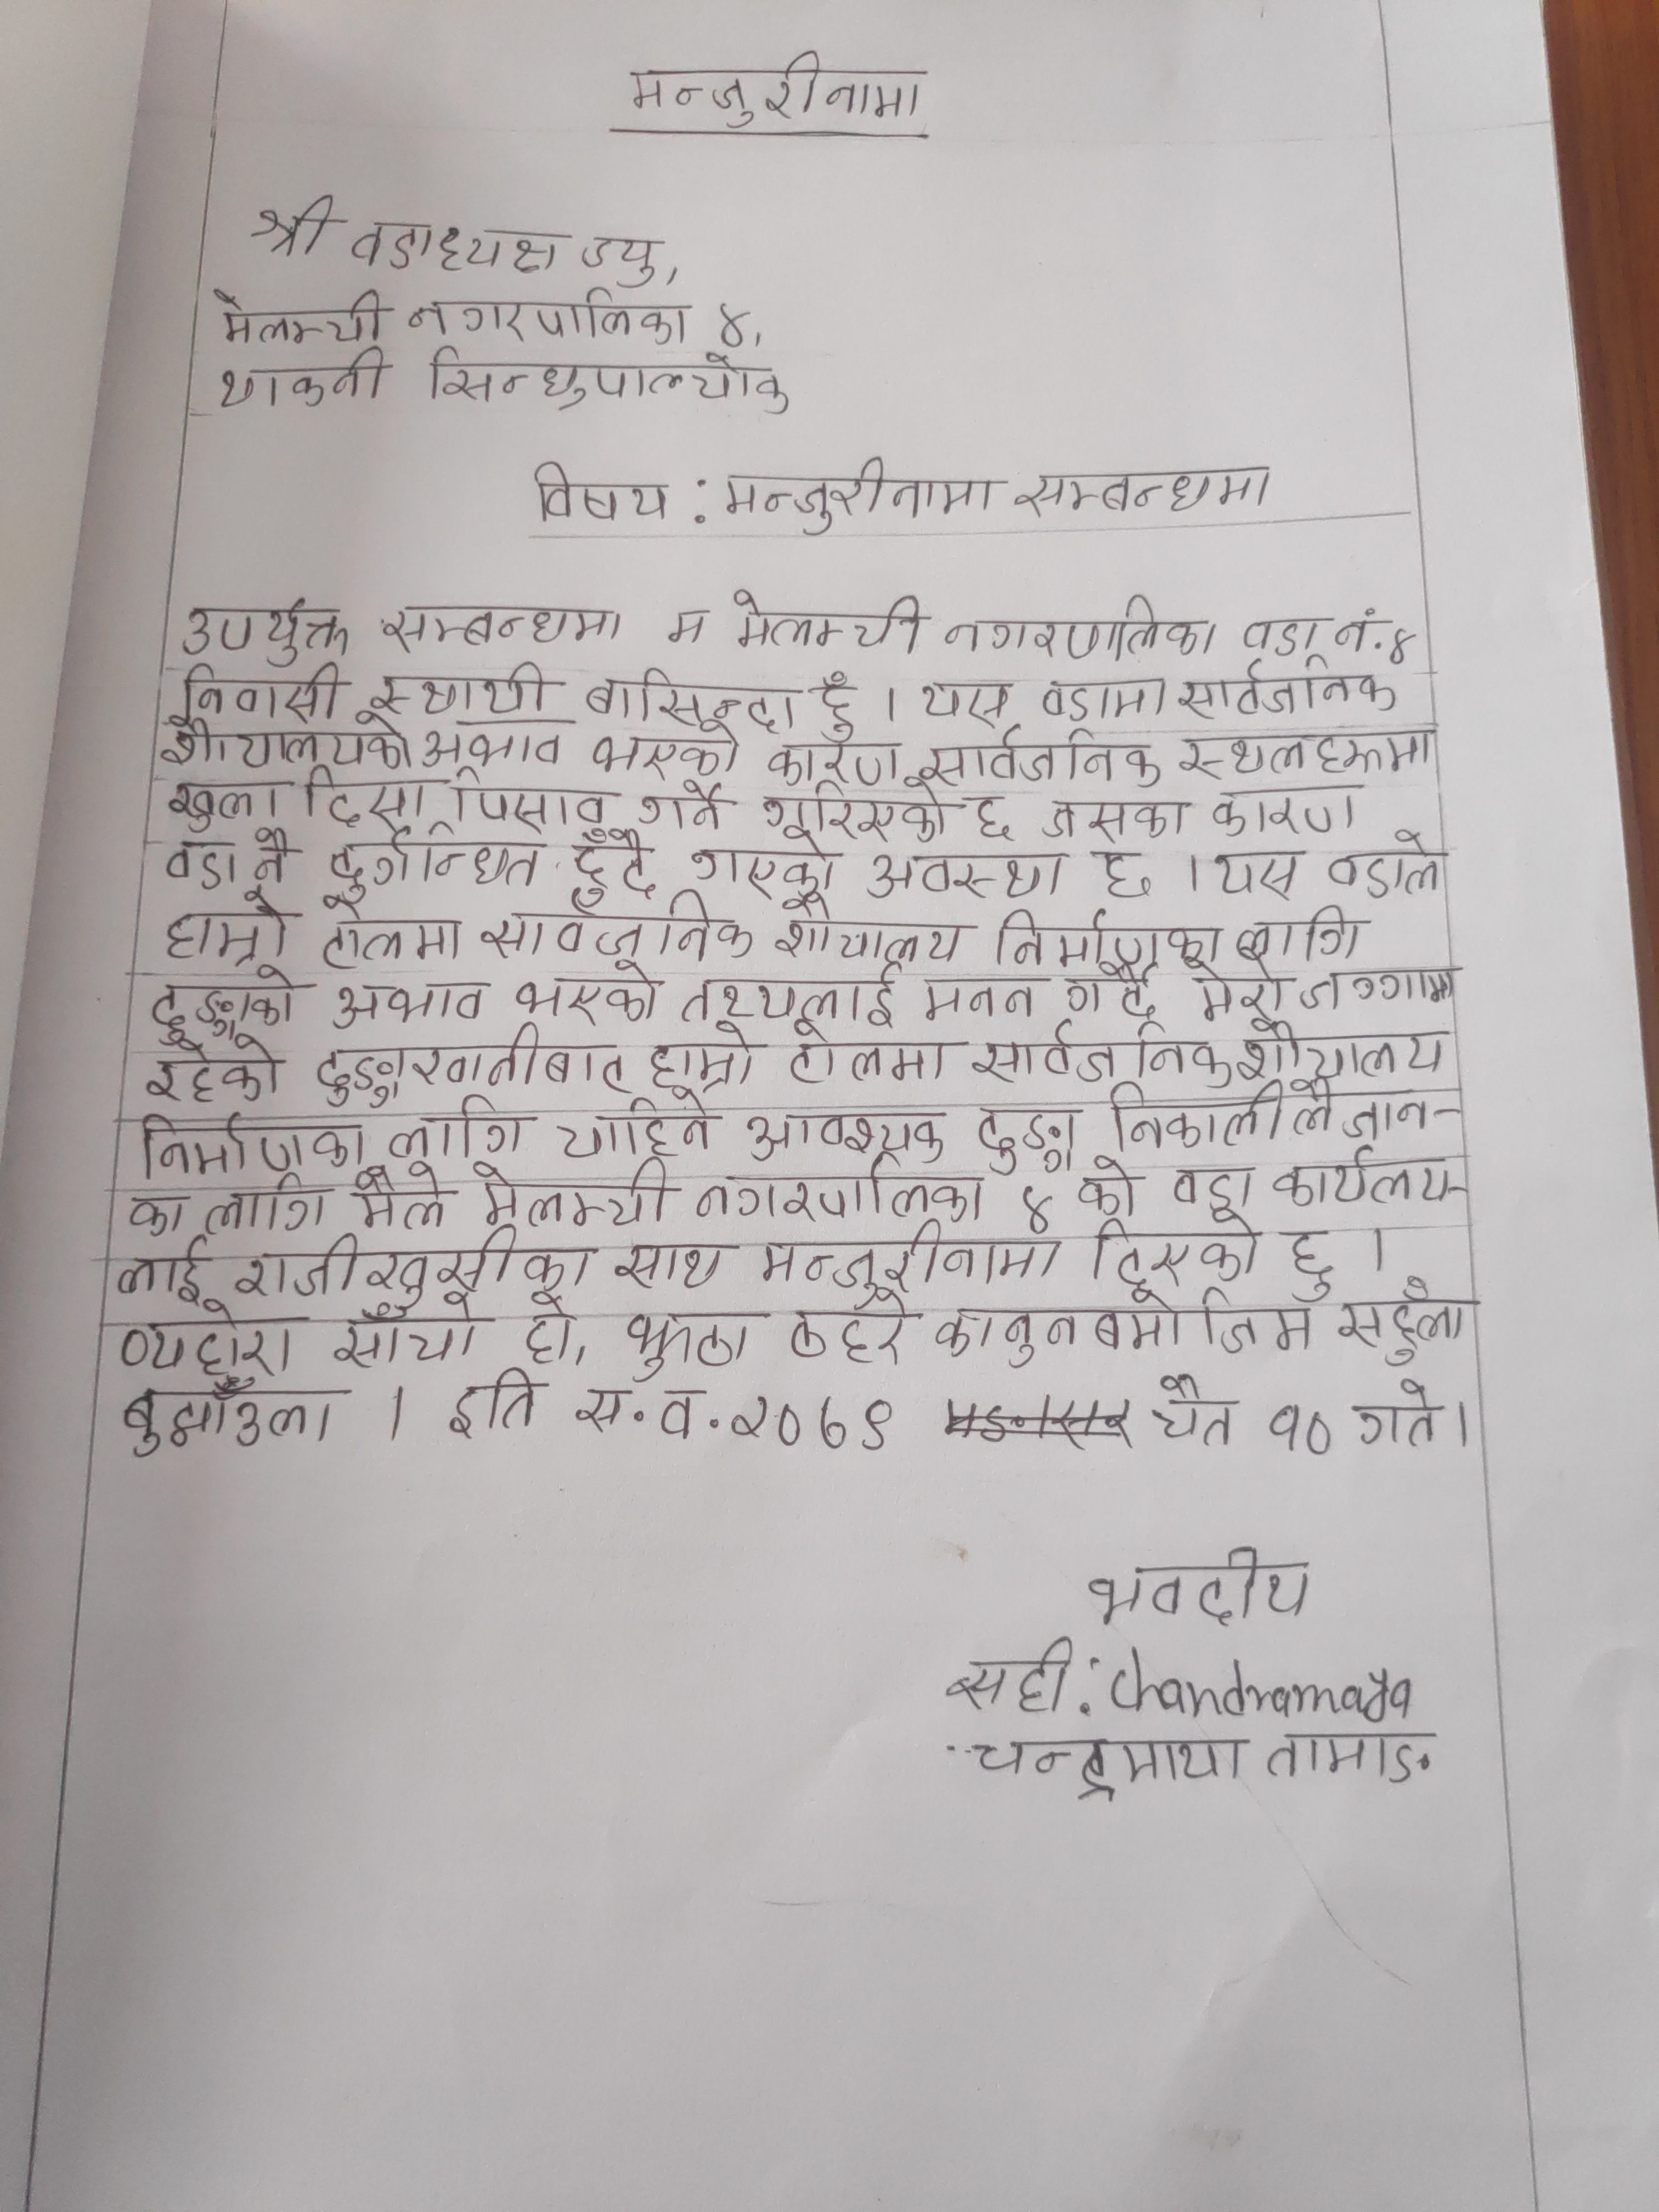text: (932, 1285, 1312, 1367), (425, 343, 798, 421), (758, 1214, 1068, 1305), (232, 1230, 599, 1299), (301, 1036, 634, 1108), (624, 52, 931, 129), (716, 458, 1004, 536), (403, 282, 699, 355), (1082, 1543, 1324, 1627), (950, 1730, 1249, 1796), (941, 599, 1220, 669), (115, 1379, 342, 1460), (328, 824, 558, 900), (479, 902, 762, 963), (132, 1108, 373, 1177), (857, 833, 1080, 906), (976, 1026, 1234, 1089), (1178, 719, 1432, 782), (720, 587, 922, 662), (380, 601, 626, 660), (772, 894, 972, 965), (352, 214, 568, 280), (579, 672, 800, 737), (157, 721, 420, 775), (666, 968, 908, 1024), (1171, 658, 1405, 716), (1230, 1015, 1448, 1076), (924, 732, 1169, 786), (1018, 469, 1279, 519), (110, 1306, 308, 1372), (992, 906, 1225, 961), (549, 1085, 727, 1158), (1086, 1214, 1262, 1287), (1328, 1275, 1469, 1366), (721, 1390, 903, 1460), (782, 1017, 962, 1087), (143, 970, 298, 1049), (179, 594, 354, 664), (1112, 1080, 1290, 1148), (1260, 1721, 1446, 1785), (206, 284, 390, 347), (688, 820, 845, 894), (171, 660, 347, 725), (213, 347, 396, 408), (317, 968, 488, 1033), (317, 897, 465, 970), (328, 1301, 486, 1369), (739, 1109, 951, 1160), (781, 1287, 910, 1369), (941, 1641, 1077, 1717), (530, 456, 671, 529), (368, 662, 547, 719), (1288, 1080, 1436, 1148), (143, 1043, 293, 1109), (511, 963, 662, 1028), (167, 895, 298, 968), (382, 1097, 528, 1162), (967, 1099, 1082, 1181), (1171, 954, 1295, 1029), (1298, 958, 1459, 1015), (620, 1308, 748, 1379), (1328, 826, 1446, 900), (608, 1233, 737, 1301), (587, 725, 742, 780), (1345, 1378, 1450, 1456), (572, 1385, 706, 1446), (645, 1019, 756, 1092), (408, 721, 568, 772), (1230, 907, 1368, 965), (568, 822, 660, 907), (1143, 1371, 1246, 1446), (1037, 669, 1173, 725), (762, 733, 897, 786), (448, 1366, 537, 1439), (244, 197, 340, 261), (922, 975, 1039, 1028), (113, 1237, 202, 1305), (918, 674, 1019, 733), (1063, 965, 1175, 1017), (1209, 846, 1302, 904), (1279, 1224, 1345, 1305), (159, 829, 244, 890), (1260, 1393, 1340, 1458), (1237, 601, 1323, 658), (577, 233, 666, 286), (805, 671, 866, 742), (519, 1292, 573, 1371), (244, 820, 305, 888), (1098, 848, 1159, 900), (1377, 622, 1432, 671), (660, 601, 720, 643), (1333, 604, 1382, 653), (716, 294, 749, 354)
